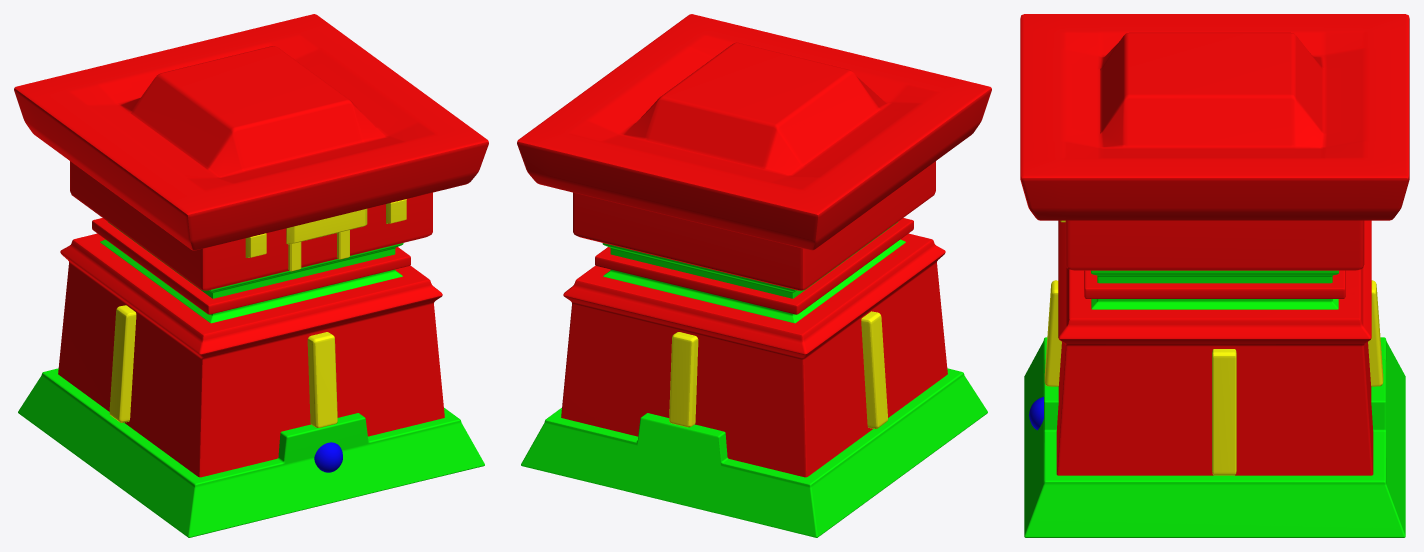
File: tomb.fbx
The picture shows the model from 3 angles, left to right: view 1: azimuth 30°, elevation 25°; view 2: azimuth 150°, elevation 25°; view 3: azimuth 270°, elevation 25°; orthographic projection. The views are drawn at different scales.
Parts seen in each view (by area): view 1: pCube1, pCube5, pCube6, pCube2, pCube4, pCube3, pCube10, pCube19, pCube9, pSphere1; view 2: pCube1, pCube5, pCube6, pCube2, pCube4, pCube3, pCube17, pCube19; view 3: pCube1, pCube5, pCube6, pCube2, pCube3, pCube4, pCube18, pCube10, pCube17.
Boxes of the visible parts, bbox=[...] form: pCube1: bbox=[14, 14, 488, 250]; pCube5: bbox=[58, 233, 444, 477]; pCube6: bbox=[18, 368, 484, 537]; pCube2: bbox=[70, 161, 432, 290]; pCube4: bbox=[92, 218, 410, 314]; pCube3: bbox=[100, 222, 403, 323]; pCube10: bbox=[307, 332, 337, 427]; pCube19: bbox=[109, 305, 136, 422]; pCube9: bbox=[286, 208, 367, 244]; pSphere1: bbox=[314, 442, 342, 472]; pCube1: bbox=[517, 14, 991, 250]; pCube5: bbox=[561, 233, 947, 477]; pCube6: bbox=[521, 368, 987, 537]; pCube2: bbox=[573, 161, 935, 290]; pCube4: bbox=[595, 218, 913, 314]; pCube3: bbox=[602, 222, 905, 323]; pCube17: bbox=[669, 332, 698, 427]; pCube19: bbox=[861, 311, 887, 428]; pCube1: bbox=[1020, 14, 1409, 220]; pCube5: bbox=[1056, 220, 1373, 475]; pCube6: bbox=[1024, 337, 1405, 537]; pCube2: bbox=[1065, 220, 1364, 270]; pCube3: bbox=[1091, 270, 1338, 309]; pCube4: bbox=[1084, 270, 1345, 298]; pCube18: bbox=[1212, 349, 1236, 475]; pCube10: bbox=[1044, 280, 1061, 386]; pCube17: bbox=[1368, 280, 1383, 386].
Size of the model in its own units: 40.69 by 45.49 by 40.69.
